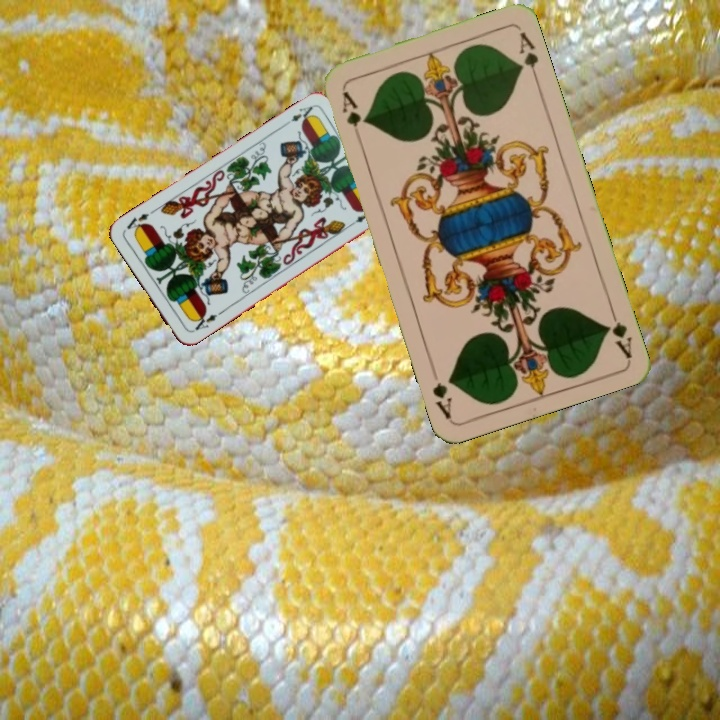EA: (188, 309, 220, 334), (287, 102, 316, 126)
GA: (602, 303, 635, 360), (337, 87, 367, 130)
